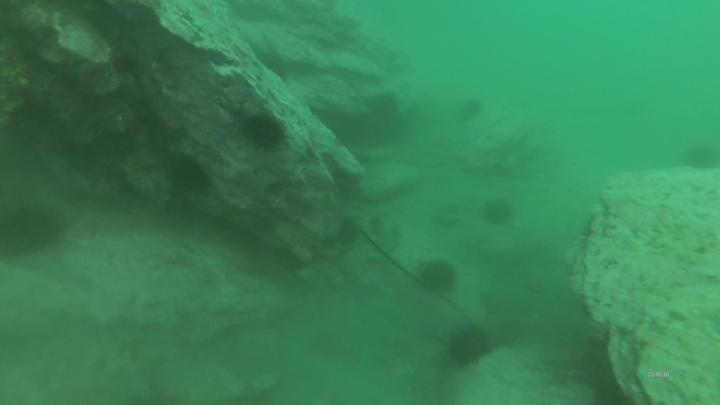echinus: (2, 205, 60, 260), (445, 325, 495, 369), (241, 113, 288, 154), (415, 256, 461, 297), (168, 151, 209, 196), (481, 195, 519, 230), (683, 144, 720, 174), (336, 217, 363, 248), (457, 98, 484, 126)
